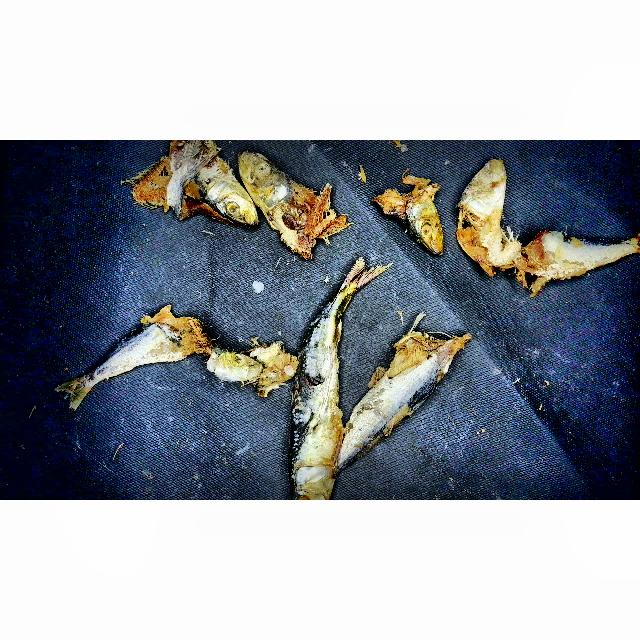Rejected_Body: (344, 316, 488, 460), (279, 307, 349, 464), (508, 224, 632, 297), (101, 301, 215, 380)
Rejected_Head: (236, 147, 357, 264), (114, 141, 263, 235), (441, 153, 524, 268), (362, 168, 455, 263), (192, 334, 302, 404), (43, 369, 118, 412)
Rejected_Tail: (330, 248, 397, 297)
